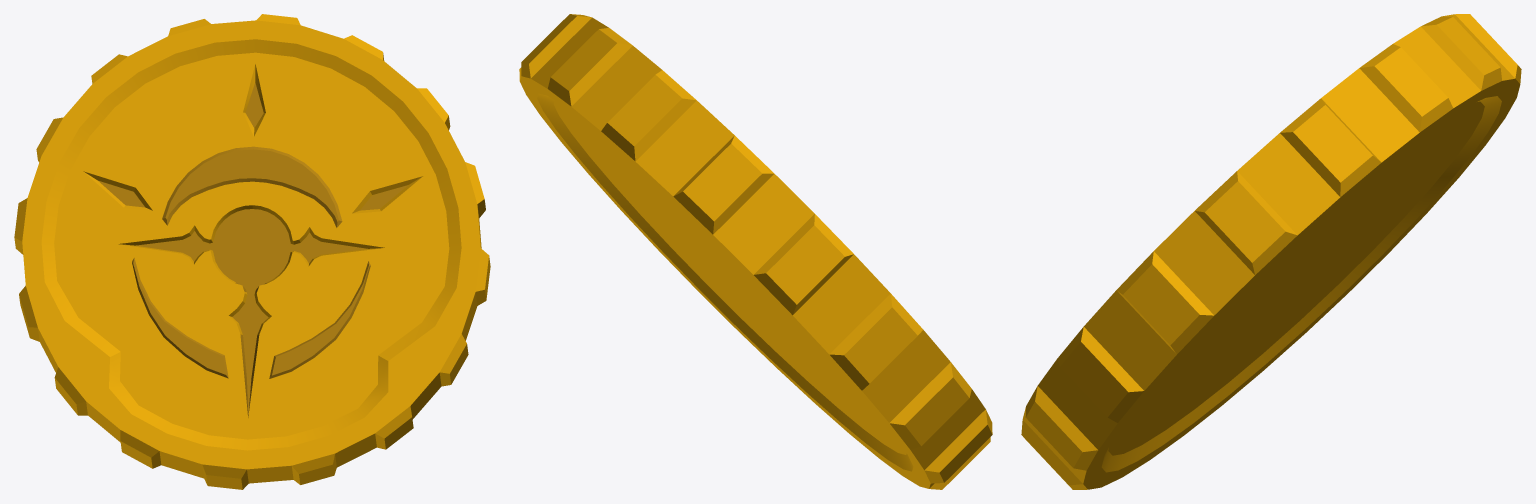
The model's file is coin.glb.
The picture shows the model from 3 angles, left to right: view 1: azimuth 30°, elevation 25°; view 2: azimuth 150°, elevation 25°; view 3: azimuth 270°, elevation 25°; orthographic projection. The views are drawn at different scales.
Visible parts, largest first — view 1: Coin; view 2: Coin; view 3: Coin.
Part boxes in pixels (<box>): Coin: <box>14,14,490,489</box>; Coin: <box>519,14,992,489</box>; Coin: <box>1021,14,1521,489</box>.
Bounding box in the file's own units: 2.81 × 2.55 × 2.39.
1 material, 1 textured.
